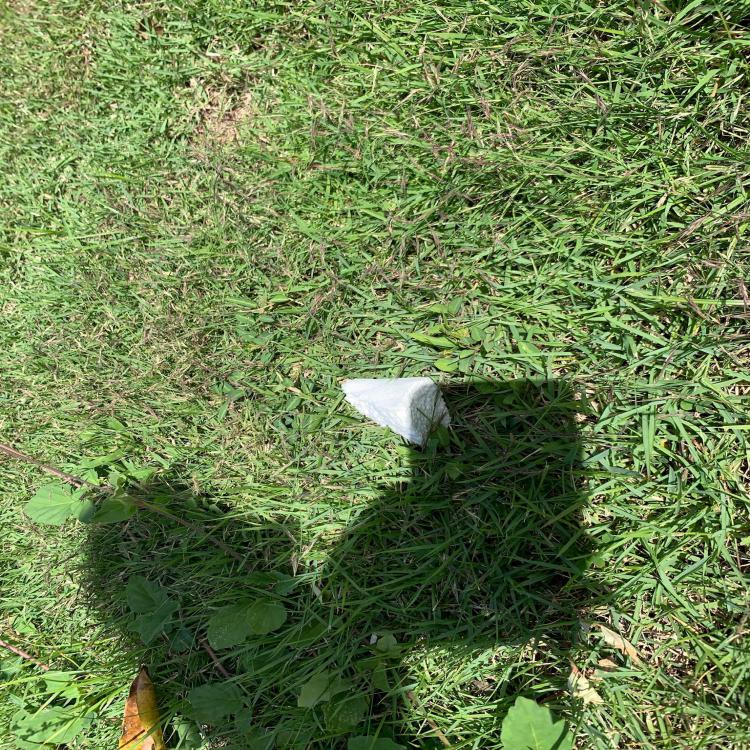Styrofoam piece: (343, 377, 452, 447)
